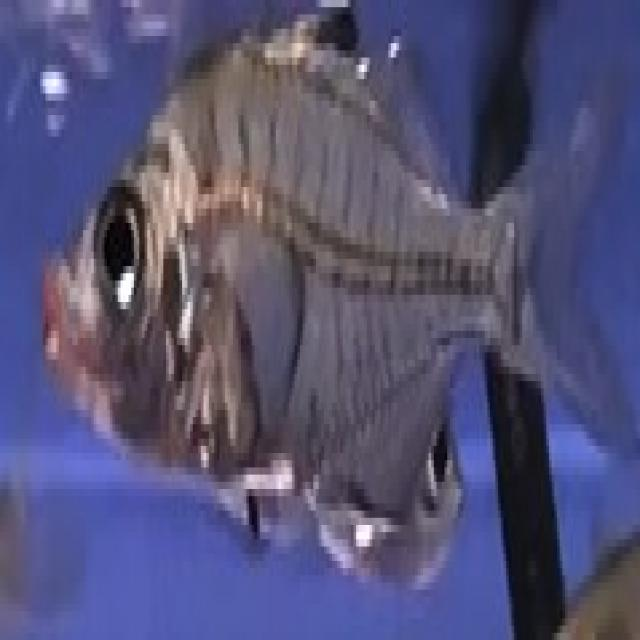Glass-Perchlet: (43, 25, 638, 600)
